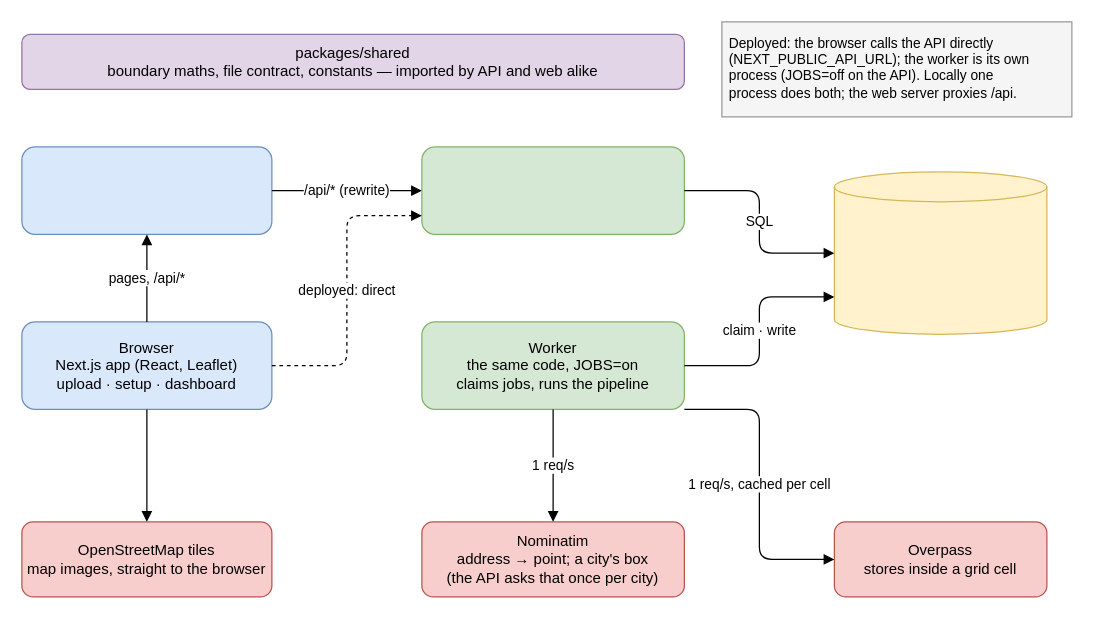
The diagram is 1094 pixels wide and 619 high, and some of its shapes have lost their labels. The shapes that lost their labels are listed below. From the top down, each one's centre as x and y in pixels, then its label:
At point (146, 190): "Web server next (3200) serves pages; proxies /api locally".
At point (552, 190): "API Express 5 (4200) routes → services → queries".
At point (940, 252): "PostgreSQL 16 + PostGIS markets, stores, jobs, tile cache".
